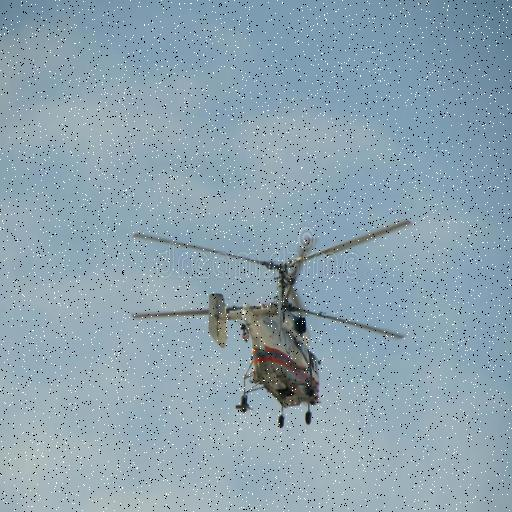helicopter: (124, 216, 413, 428)
